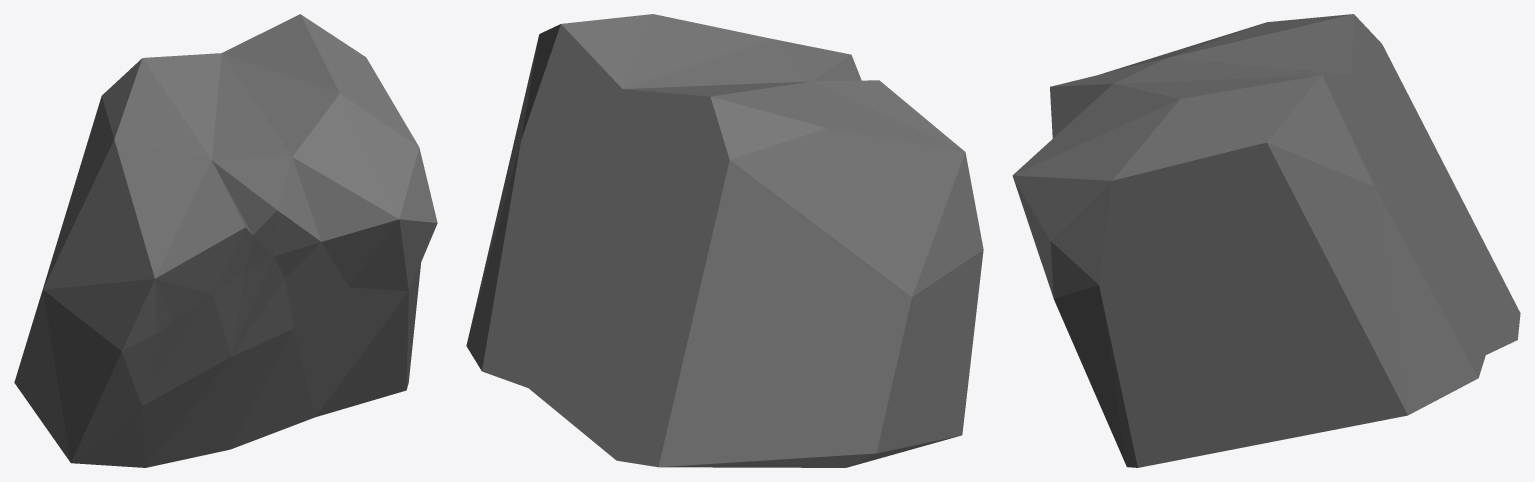
Rendered from rock_002.glb.
3 views of the same model, side by side, from view 1: azimuth 30°, elevation 25°; view 2: azimuth 150°, elevation 25°; view 3: azimuth 270°, elevation 25° (orthographic). The views are drawn at different scales.
Parts seen in each view (by area): view 1: rock_002; view 2: rock_002; view 3: rock_002.
Boxes of the visible parts, x1=… form: rock_002: x1=14, y1=14, x2=437, y2=467; rock_002: x1=466, y1=14, x2=983, y2=467; rock_002: x1=1012, y1=14, x2=1520, y2=467.
Bounding box in the file's own units: 21.18 × 21.56 × 23.51.
1 material, 1 textured.
